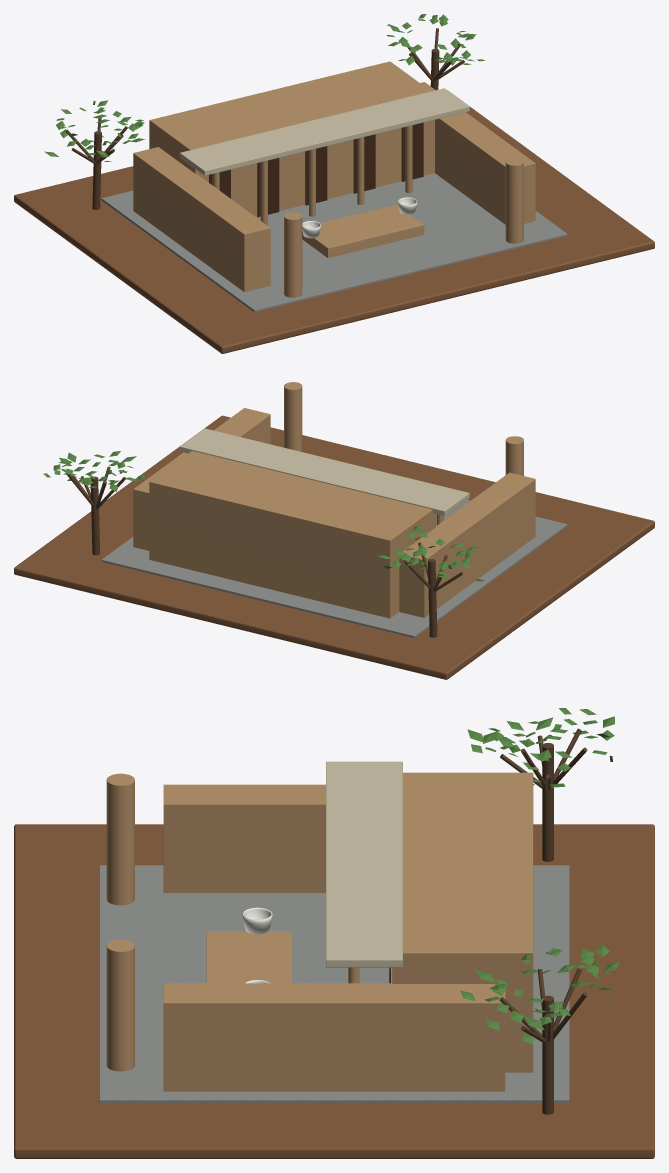
Rendered from royal-courtyard.glb.
3 renders of one model, top to bottom at view 1: azimuth 30°, elevation 25°; view 2: azimuth 150°, elevation 25°; view 3: azimuth 270°, elevation 25°, orthographic. The views are drawn at different scales.
Visible parts, largest first — view 1: Earth plot, Royal courtyard, Rear palace hall, Courtyard wing, Colonnade canopy, Courtyard wing.001, Ceremonial platform, Entrance pillar, Entrance pillar.001, Recessed door.003, Recessed door.004, Recessed door.002 (+5 smaller); view 2: Earth plot, Rear palace hall, Courtyard wing, Royal courtyard, Colonnade canopy, Courtyard wing.001, Entrance pillar.001, Entrance pillar, Trunk, Trunk.001; view 3: Earth plot, Courtyard wing.001, Royal courtyard, Rear palace hall, Courtyard wing, Colonnade canopy, Ceremonial platform, Entrance pillar, Entrance pillar.001, Trunk, Trunk.001, Bowl / open inner wall.
Boxes of the visible parts, left/top/right/bottom form: Earth plot: left=14, top=92, right=654, bottom=353; Royal courtyard: left=101, top=173, right=567, bottom=312; Rear palace hall: left=149, top=61, right=434, bottom=216; Courtyard wing: left=133, top=147, right=270, bottom=291; Colonnade canopy: left=180, top=88, right=469, bottom=175; Courtyard wing.001: left=420, top=82, right=535, bottom=224; Ceremonial platform: left=302, top=204, right=424, bottom=258; Entrance pillar: left=284, top=212, right=302, bottom=297; Entrance pillar.001: left=505, top=158, right=523, bottom=243; Recessed door.003: left=353, top=134, right=375, bottom=193; Recessed door.004: left=401, top=122, right=423, bottom=181; Recessed door.002: left=305, top=146, right=327, bottom=205; Earth plot: left=14, top=415, right=654, bottom=679; Rear palace hall: left=149, top=451, right=435, bottom=618; Courtyard wing: left=399, top=472, right=535, bottom=617; Royal courtyard: left=101, top=499, right=567, bottom=637; Colonnade canopy: left=180, top=428, right=469, bottom=515; Courtyard wing.001: left=133, top=408, right=270, bottom=550; Entrance pillar.001: left=284, top=382, right=302, bottom=451; Entrance pillar: left=505, top=436, right=523, bottom=475; Trunk: left=428, top=559, right=437, bottom=637; Trunk.001: left=90, top=476, right=99, bottom=555; Earth plot: left=14, top=824, right=654, bottom=1158; Courtyard wing.001: left=163, top=983, right=505, bottom=1091; Royal courtyard: left=99, top=865, right=569, bottom=1103; Rear palace hall: left=392, top=772, right=533, bottom=1072; Courtyard wing: left=163, top=784, right=325, bottom=892; Colonnade canopy: left=326, top=761, right=402, bottom=967; Ceremonial platform: left=206, top=931, right=291, bottom=983; Entrance pillar: left=106, top=773, right=134, bottom=905; Entrance pillar.001: left=106, top=940, right=134, bottom=1071; Trunk: left=542, top=743, right=553, bottom=861; Trunk.001: left=542, top=995, right=553, bottom=1114; Bowl / open inner wall: left=242, top=907, right=272, bottom=934.
Bounding box in the file's own units: 18.1 × 4.12 × 15.
8 materials, 2 textured.
